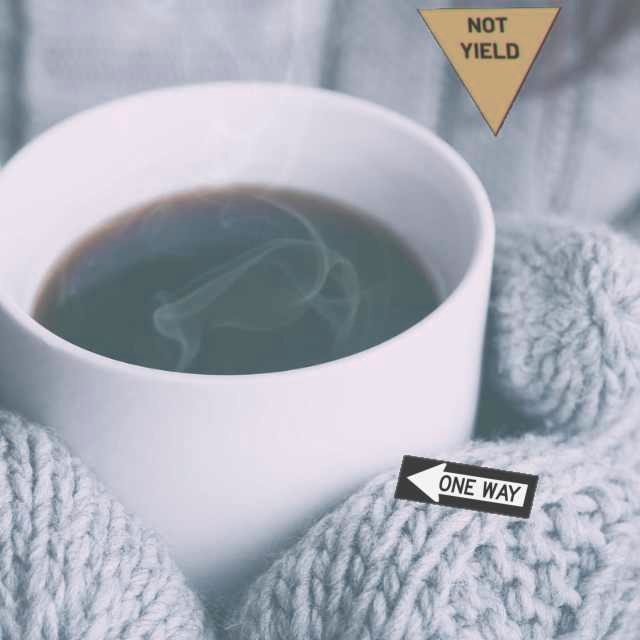NOT_YIELD: (416, 6, 562, 137)
ONE_WAY_ left: (393, 454, 539, 519)
